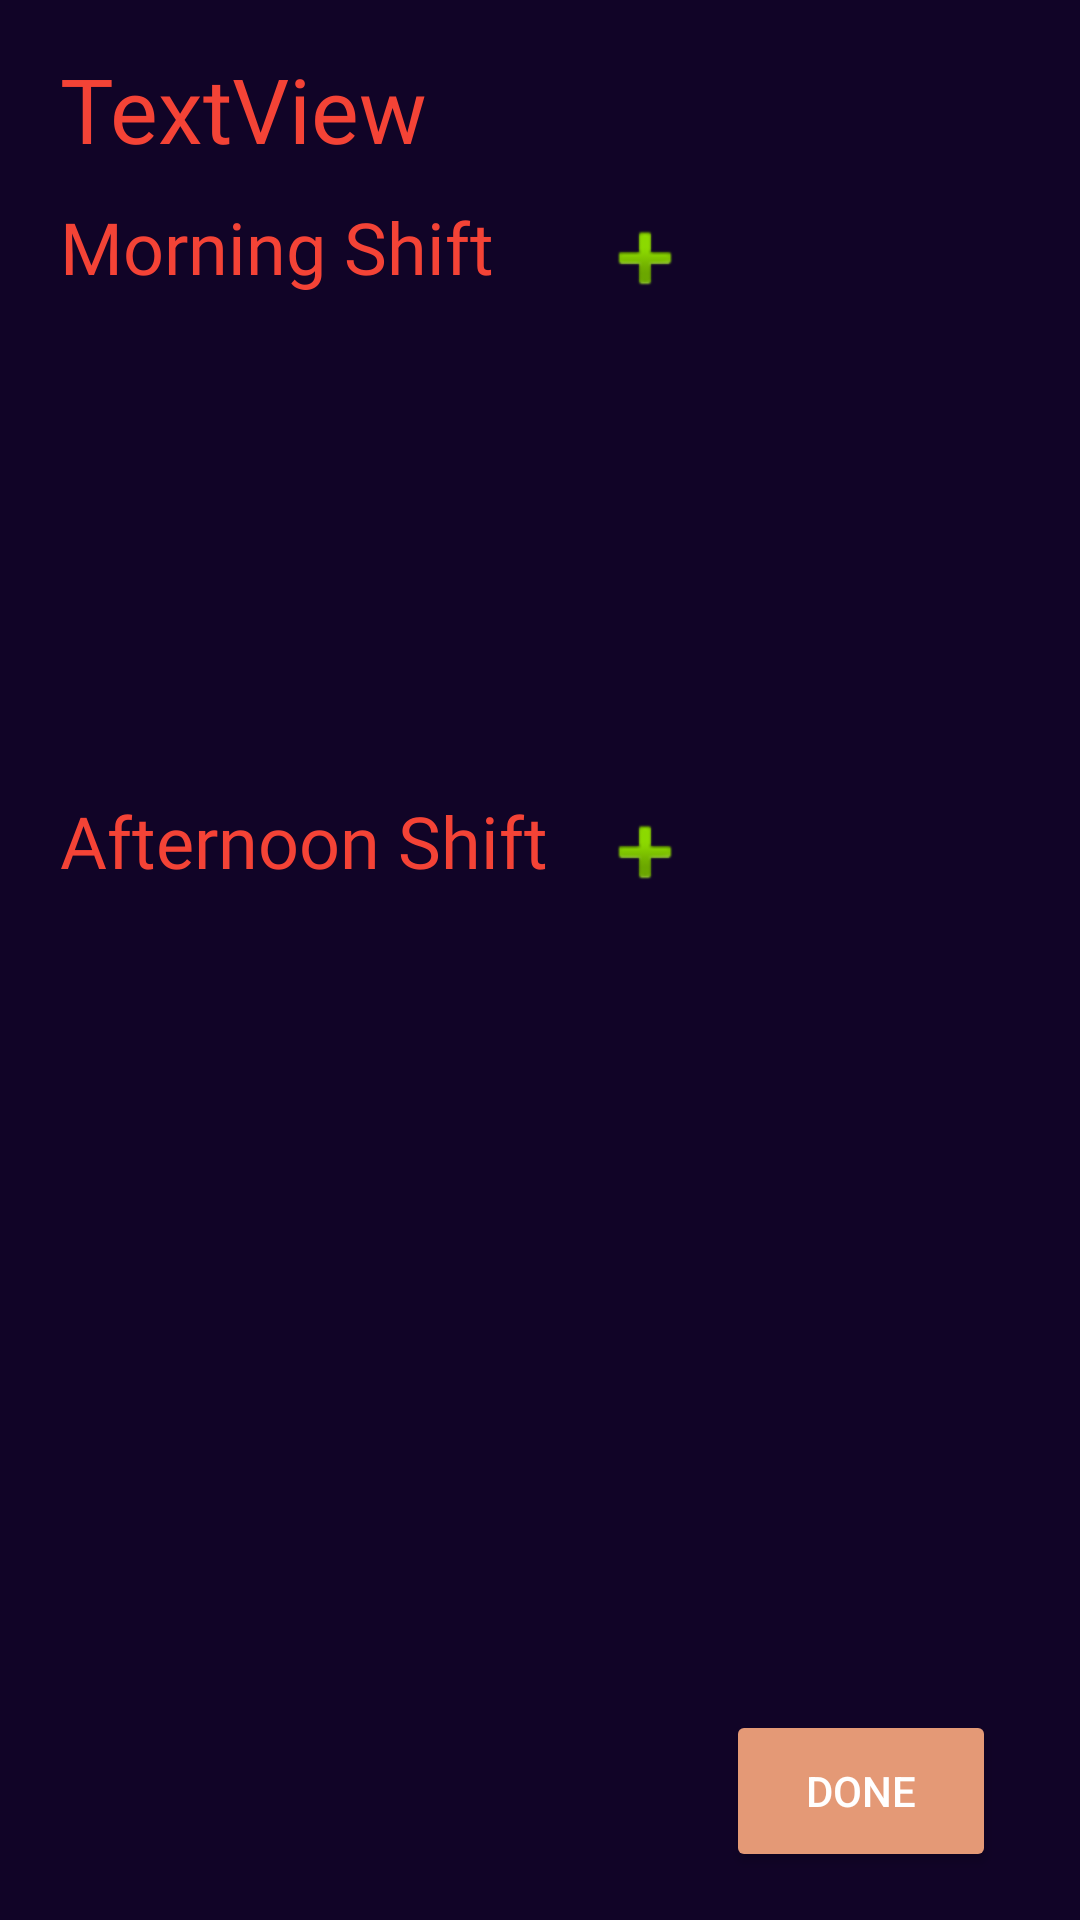

Named icons in this screenshot (1080 x 1920) and their centers, (x,y):
add: (645,258), (645,852)
